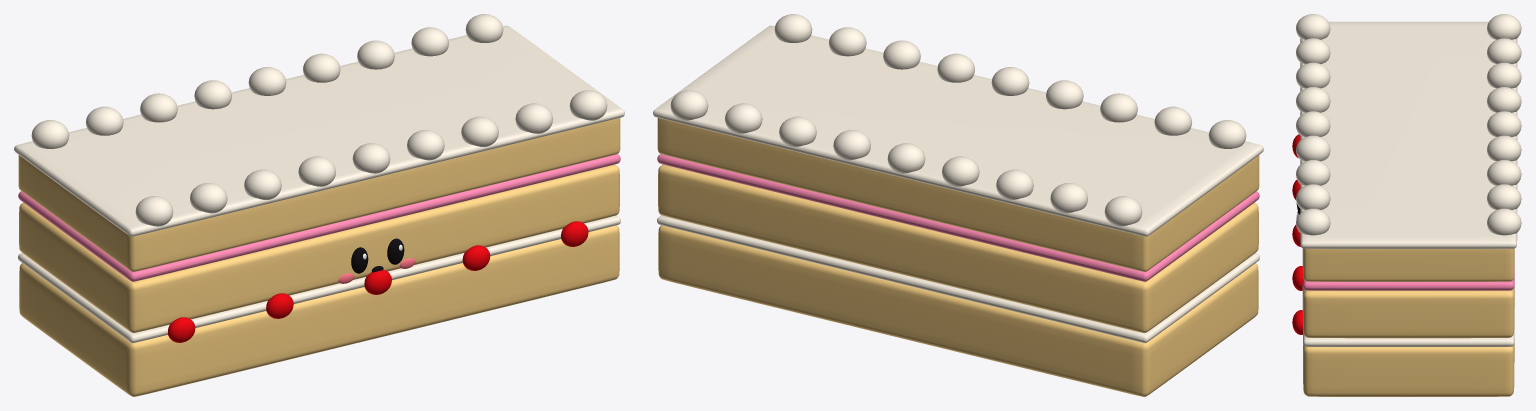
Rendered from SpongeBlock.glb.
3 renders of one model, left to right at view 1: azimuth 30°, elevation 25°; view 2: azimuth 150°, elevation 25°; view 3: azimuth 270°, elevation 25°, orthographic. The views are drawn at different scales.
Visible parts, largest first — view 1: Cube.005, Cube, Cube.002, Cube.004, Cube.003, Cube.001, Sphere.016, Sphere, Sphere.004, Sphere.012, Sphere.008, Sphere.014 (+17 smaller); view 2: Cube.005, Cube, Cube.002, Cube.004, Cube.001, Cube.003, Sphere.017, Sphere.001, Sphere.005, Sphere.013, Sphere.009, Sphere.015 (+12 smaller); view 3: Cube.005, Cube, Cube.002, Cube.004, Cube.001, Cube.003, Sphere.017, Sphere.016, Sphere, Sphere.006, Sphere.012, Sphere.005 (+14 smaller).
Part boxes in pixels (left/top/right/bottom): Cube.005: left=14, top=25, right=624, bottom=236; Cube: left=19, top=225, right=619, bottom=396; Cube.002: left=19, top=164, right=619, bottom=332; Cube.004: left=18, top=118, right=620, bottom=271; Cube.003: left=18, top=154, right=620, bottom=281; Cube.001: left=18, top=215, right=620, bottom=343; Sphere.016: left=569, top=90, right=607, bottom=120; Sphere: left=135, top=196, right=173, bottom=226; Sphere.004: left=244, top=169, right=281, bottom=199; Sphere.012: left=461, top=116, right=498, bottom=146; Sphere.008: left=352, top=143, right=390, bottom=173; Sphere.014: left=515, top=103, right=553, bottom=133; Cube.005: left=653, top=25, right=1263, bottom=236; Cube: left=658, top=225, right=1258, bottom=396; Cube.002: left=658, top=164, right=1258, bottom=332; Cube.004: left=657, top=118, right=1259, bottom=271; Cube.001: left=657, top=215, right=1259, bottom=343; Cube.003: left=657, top=154, right=1259, bottom=281; Sphere.017: left=670, top=90, right=708, bottom=120; Sphere.001: left=1104, top=196, right=1142, bottom=226; Sphere.005: left=996, top=169, right=1033, bottom=199; Sphere.013: left=779, top=116, right=816, bottom=146; Sphere.009: left=887, top=143, right=925, bottom=173; Sphere.015: left=724, top=103, right=762, bottom=133; Cube.005: left=1300, top=21, right=1517, bottom=248; Cube: left=1303, top=341, right=1514, bottom=396; Cube.002: left=1302, top=251, right=1514, bottom=338; Cube.004: left=1303, top=248, right=1514, bottom=281; Cube.001: left=1302, top=253, right=1514, bottom=346; Cube.003: left=1302, top=249, right=1514, bottom=290; Sphere.017: left=1487, top=208, right=1521, bottom=235; Sphere.016: left=1296, top=208, right=1330, bottom=235; Sphere: left=1296, top=14, right=1330, bottom=39; Sphere.006: left=1296, top=87, right=1330, bottom=112; Sphere.012: left=1296, top=160, right=1330, bottom=185; Sphere.005: left=1487, top=62, right=1521, bottom=88.
Bounding box in the file's own units: 6.06 × 2.24 × 2.64.
